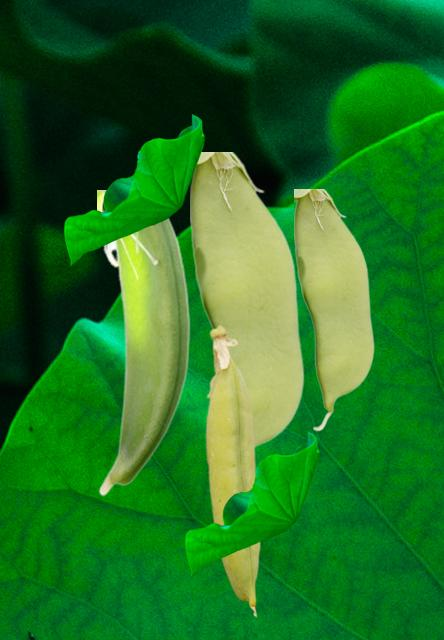pea: (190, 152, 303, 447), (97, 190, 192, 495), (294, 189, 373, 430), (205, 324, 260, 616)
